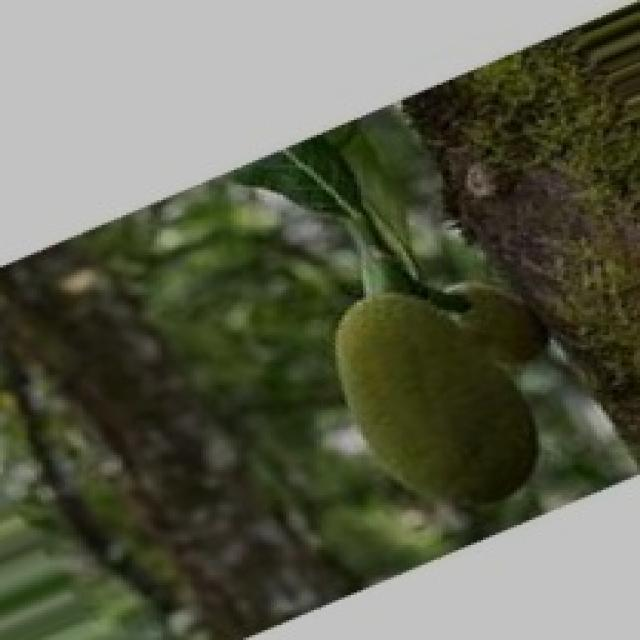Fruit: (298, 260, 572, 538)
